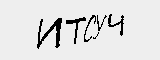И: (34, 17, 64, 49)
С: (83, 11, 97, 46)
Т: (65, 15, 86, 48)
У: (95, 10, 107, 41)
Ч: (107, 12, 127, 37)
